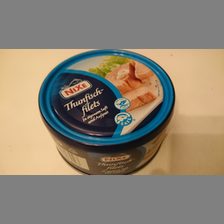fish: (39, 49, 176, 175)
